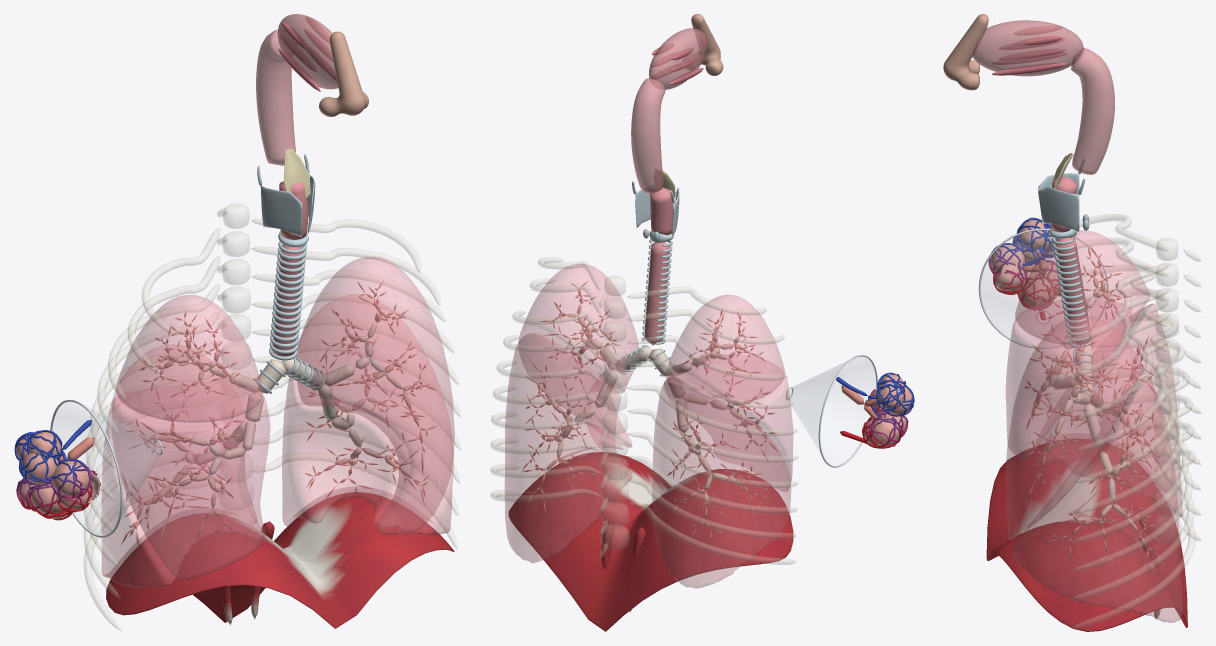
The model's file is respiratory.glb.
The picture shows the model from 3 angles, left to right: view 1: azimuth 30°, elevation 25°; view 2: azimuth 150°, elevation 25°; view 3: azimuth 270°, elevation 25°; orthographic projection. The views are drawn at different scales.
Parts seen in each view (by area): view 1: Lung_R, Lung_L, Diaphragm, Ribs, Zoom_Callout, Bronchioles_R, Nose, Bronchioles_L, Pharynx, Larynx, Trachea, Bronchi_R (+5 smaller); view 2: Lung_R, Diaphragm, Lung_L, Ribs, Zoom_Callout, Bronchioles_R, Nose, Bronchioles_L, Pharynx, Larynx, Trachea, Bronchi_R (+4 smaller); view 3: Lung_L, Diaphragm, Lung_R, Ribs, Nose, Zoom_Callout, Bronchioles_L, Pharynx, Bronchioles_R, Larynx, Trachea, Bronchi_L (+6 smaller).
Boxes of the visible parts, x1,y1,x2,y2 form: Lung_R: (101,295,269,587); Lung_L: (282,256,454,535); Diaphragm: (106,492,454,628); Ribs: (84,203,460,631); Zoom_Callout: (50,400,162,537); Bronchioles_R: (120,311,246,549); Nose: (277,14,368,116); Bronchioles_L: (305,280,435,501); Pharynx: (256,29,297,165); Larynx: (257,149,315,247); Trachea: (269,241,306,360); Bronchi_R: (223,359,286,450); Lung_R: (652,295,793,588); Diaphragm: (508,452,793,631); Lung_L: (505,263,638,562); Ribs: (490,257,798,564); Zoom_Callout: (786,354,877,467); Bronchioles_R: (666,309,777,542); Nose: (649,14,723,89); Bronchioles_L: (522,281,619,517); Pharynx: (631,78,665,193); Larynx: (632,169,679,242); Trachea: (642,239,672,345); Bronchi_R: (648,348,708,433); Lung_L: (1006,316,1182,622); Diaphragm: (986,439,1187,631); Lung_R: (1006,230,1182,516); Ribs: (1047,214,1200,628); Nose: (943,14,1083,90); Zoom_Callout: (978,228,1108,348); Bronchioles_L: (1025,336,1164,573); Pharynx: (1071,48,1114,174); Bronchioles_R: (1024,246,1162,471); Larynx: (1038,153,1089,238); Trachea: (1051,237,1091,347); Bronchi_L: (1073,351,1104,449).
Size of the model in its own units: 3 by 4.14 by 1.58.
